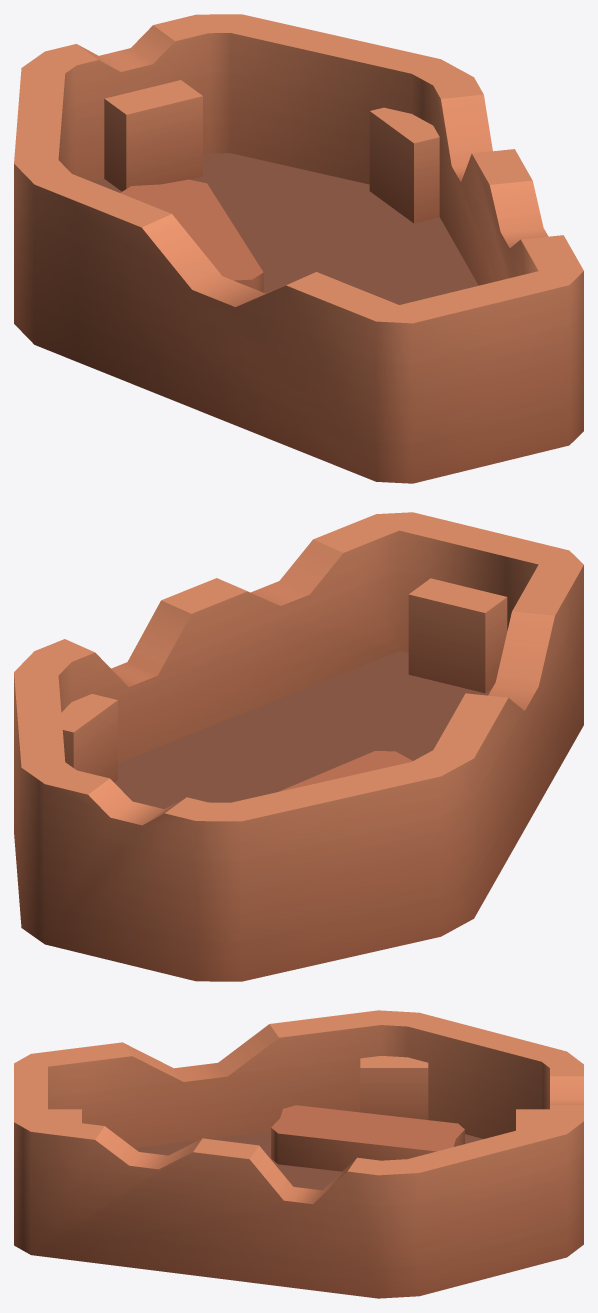
The model's file is grave.coffin_old.glb.
3 renders of one model, top to bottom at view 1: azimuth 30°, elevation 25°; view 2: azimuth 150°, elevation 25°; view 3: azimuth 270°, elevation 25°, orthographic. The views are drawn at different scales.
Parts seen in each view (by area): view 1: coffin-old; view 2: coffin-old; view 3: coffin-old.
Boxes of the visible parts, x1,y1,x2,y2 form: coffin-old: [14, 14, 583, 483]; coffin-old: [14, 512, 583, 981]; coffin-old: [14, 1010, 583, 1298].
Size of the model in its own units: 1.37 by 0.4772 by 2.
Materials: 1 (1 with a texture image).
